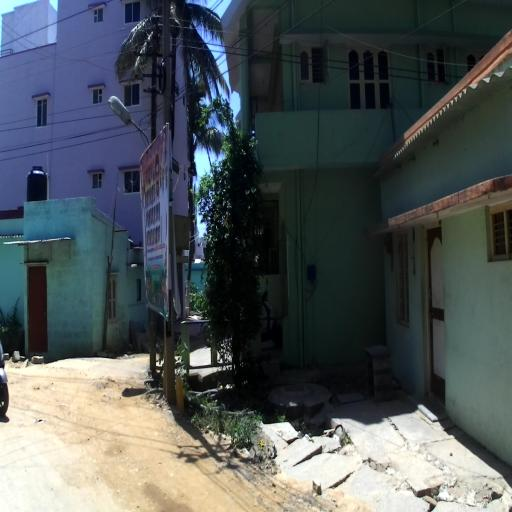street_light_0: (107, 96, 151, 145)
